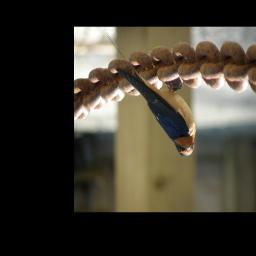Swallow: (104, 32, 197, 157)
